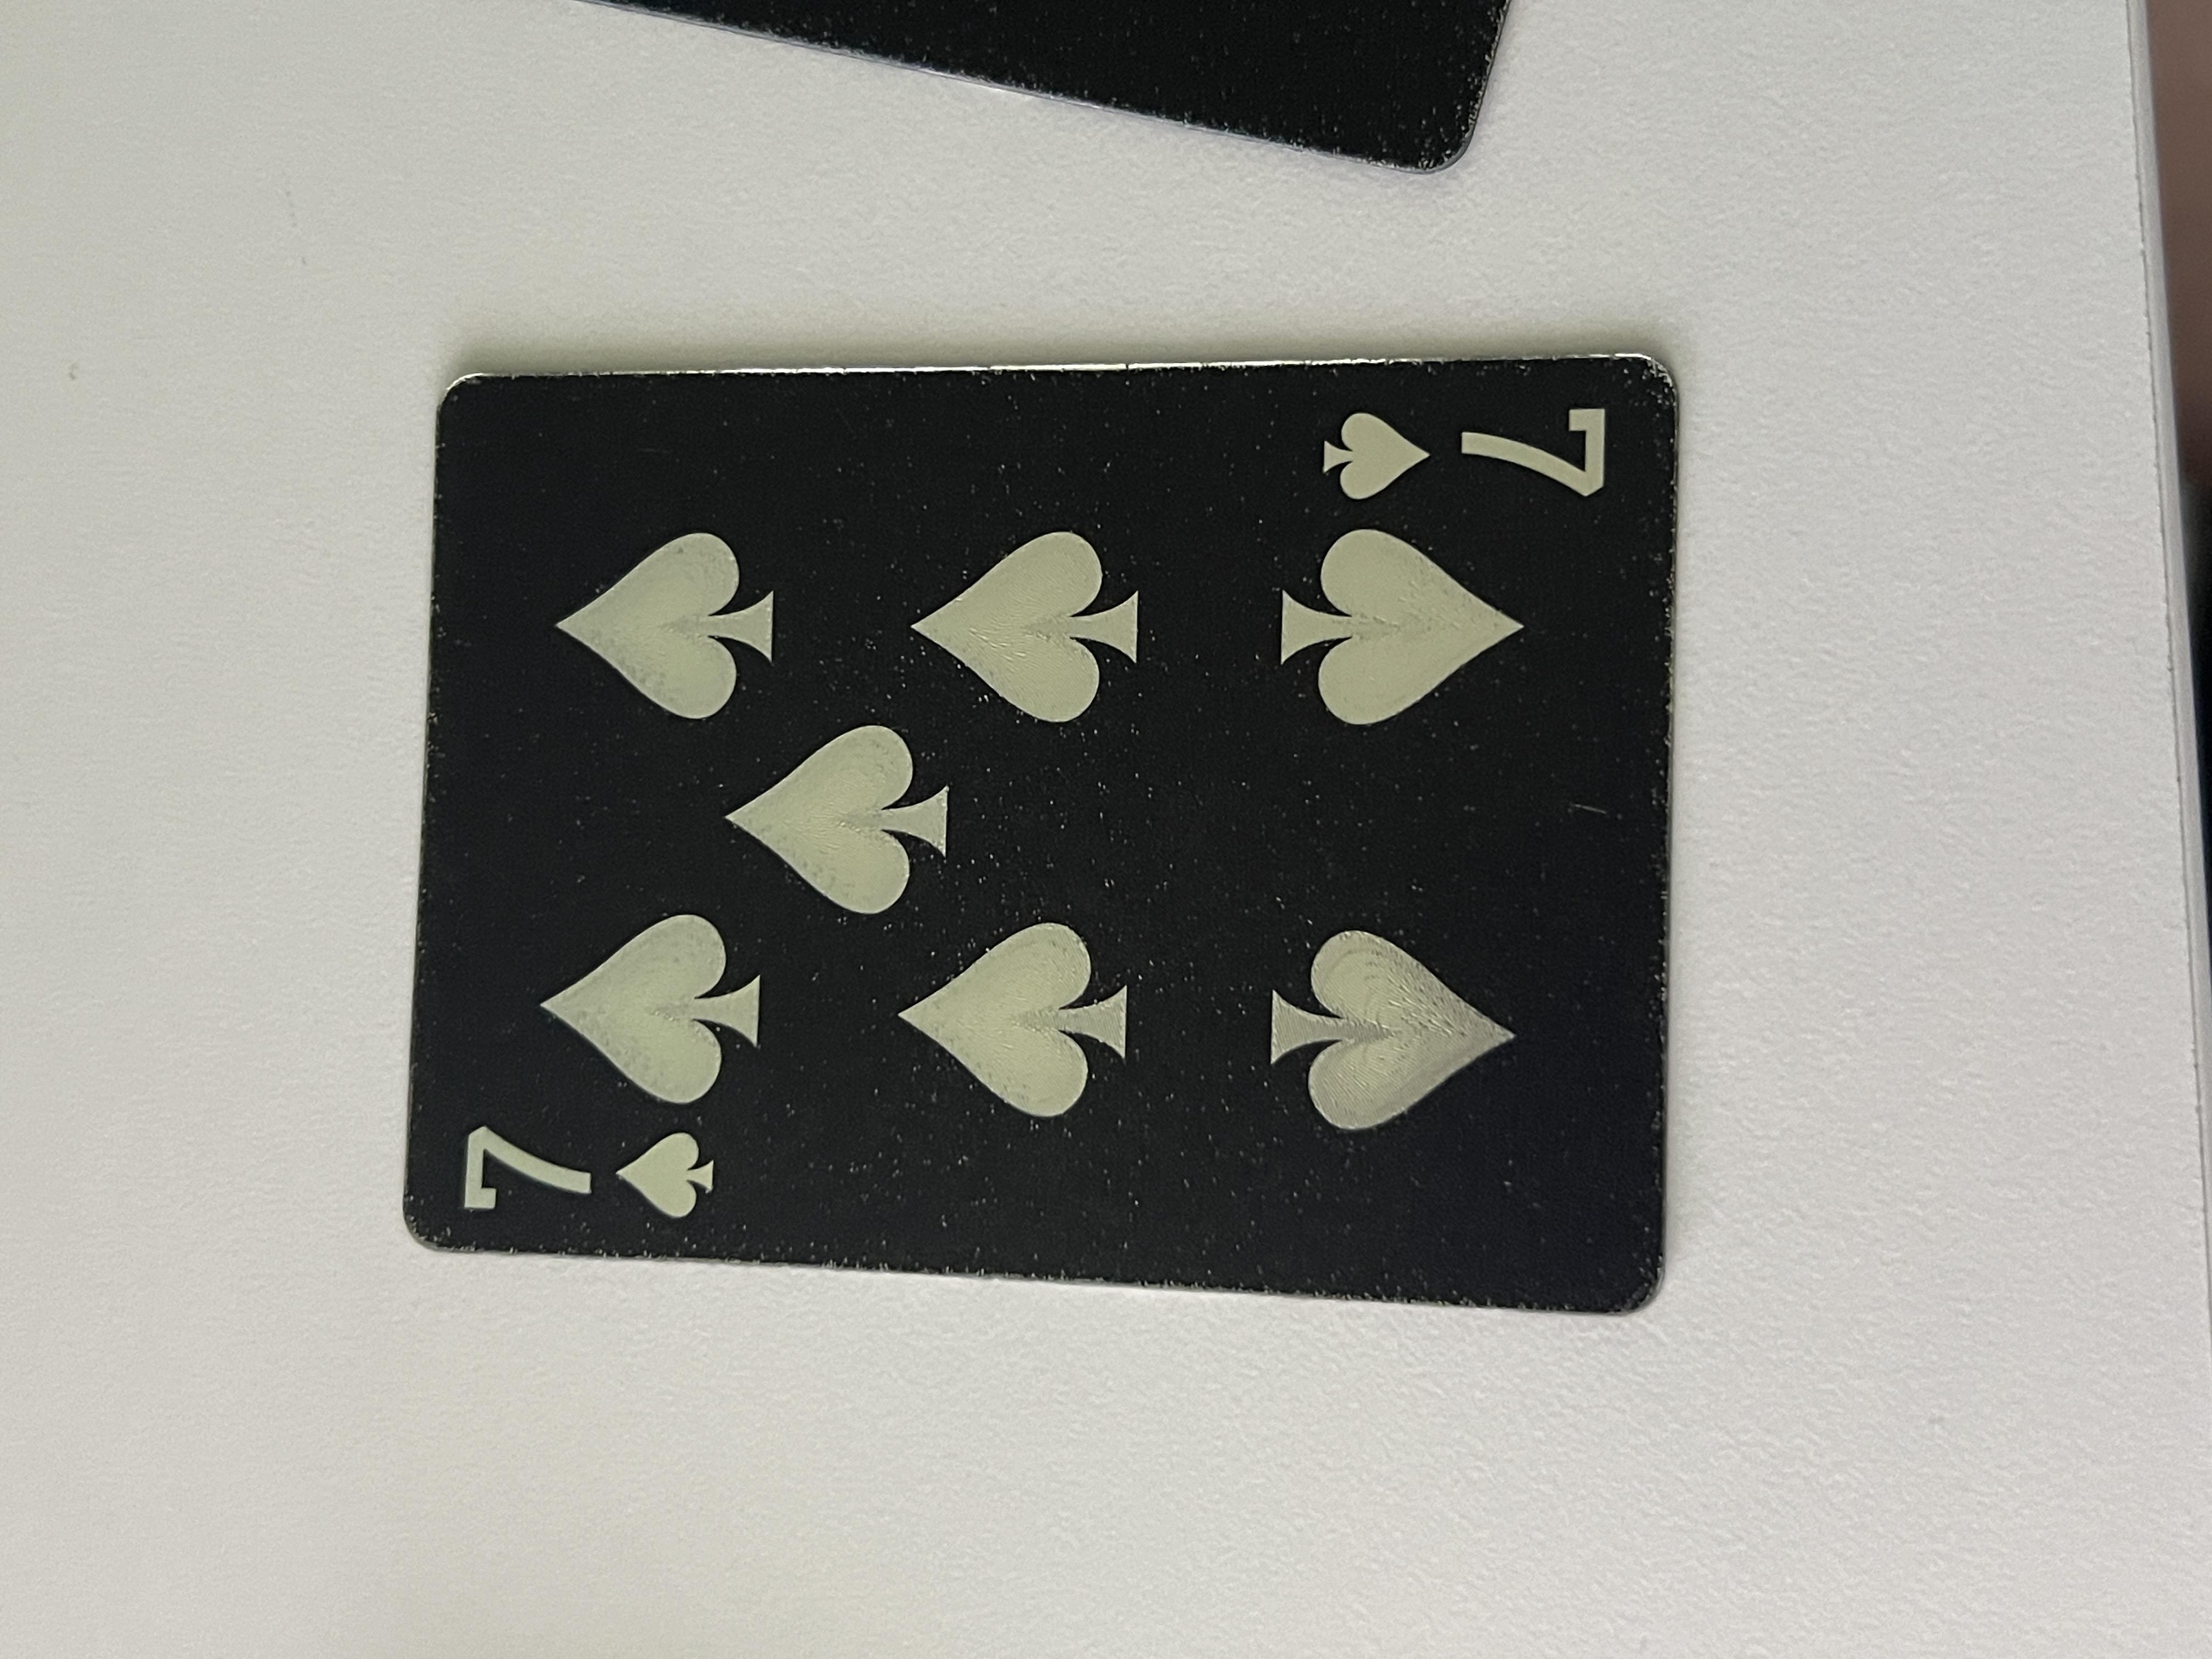6S: (556, 333, 745, 549), (1533, 979, 1700, 1223)
